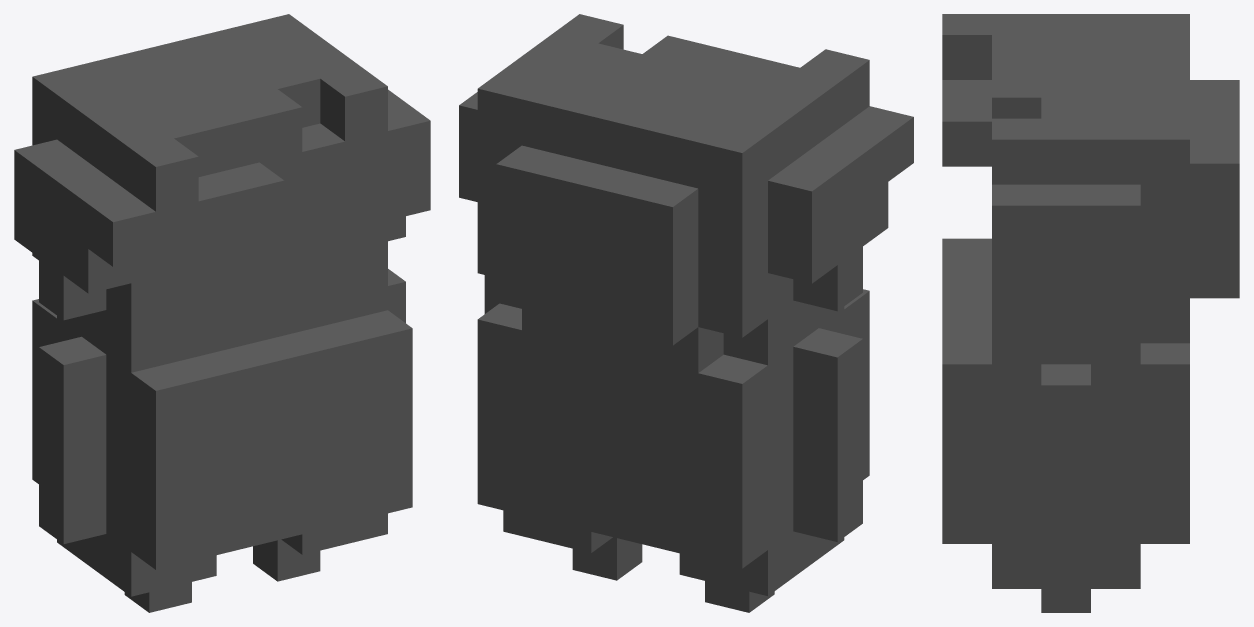
The model's file is chr_mission1.obj.
3 views of the same model, side by side, from view 1: azimuth 30°, elevation 25°; view 2: azimuth 150°, elevation 25°; view 3: azimuth 270°, elevation 25° (orthographic). The views are drawn at different scales.
Bounding box in the file's own units: 8 × 11 × 6.
